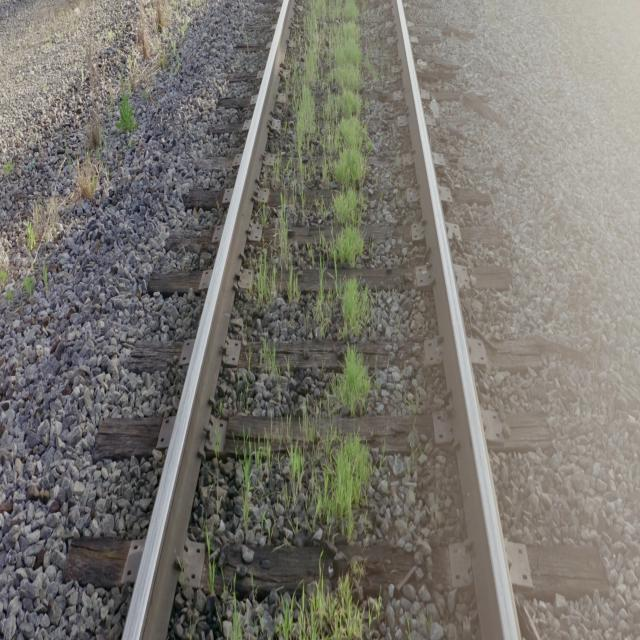Plant: (272, 0, 368, 267), (309, 436, 371, 540), (276, 567, 364, 640), (274, 580, 371, 638), (312, 276, 370, 340), (331, 347, 371, 416), (279, 193, 300, 302), (285, 444, 308, 511), (255, 251, 279, 307), (242, 453, 251, 516), (261, 344, 279, 373)
